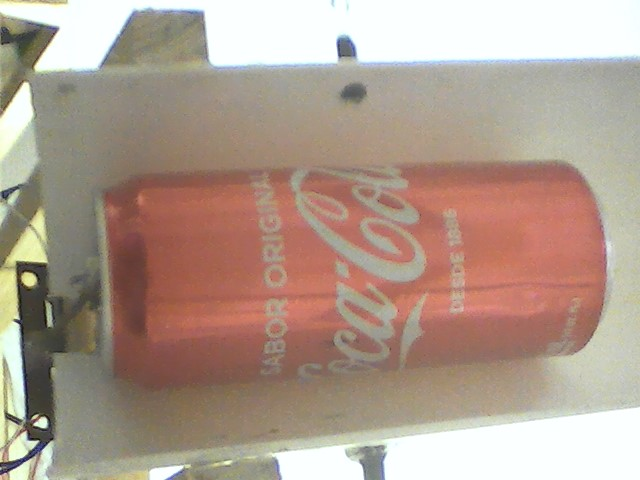lata: (86, 156, 616, 392)
